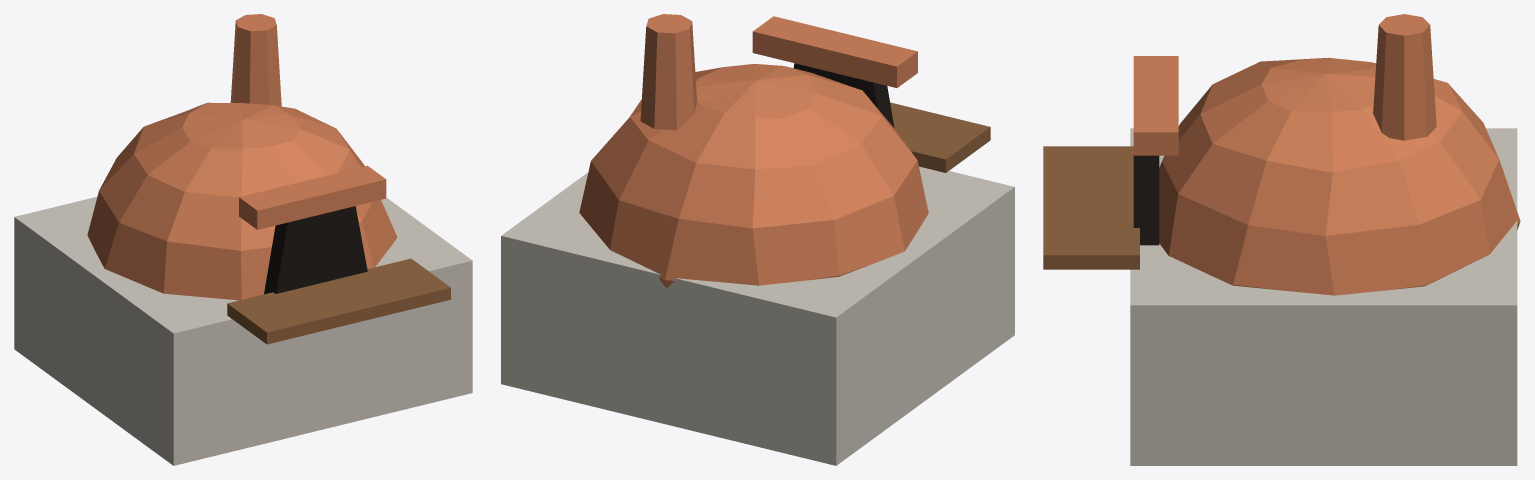
The model's file is oven.obj.
3 renders of one model, left to right at view 1: azimuth 30°, elevation 25°; view 2: azimuth 150°, elevation 25°; view 3: azimuth 270°, elevation 25°, orthographic. The views are drawn at different scales.
Parts seen in each view (by area): view 1: base; view 2: base; view 3: base.
Part boxes in pixels (x1,y1,x2,y2): base: (14, 14, 472, 465); base: (501, 14, 1014, 465); base: (1043, 14, 1520, 465).
Bounding box in the file's own units: 1.3 × 1.3 × 1.48.
